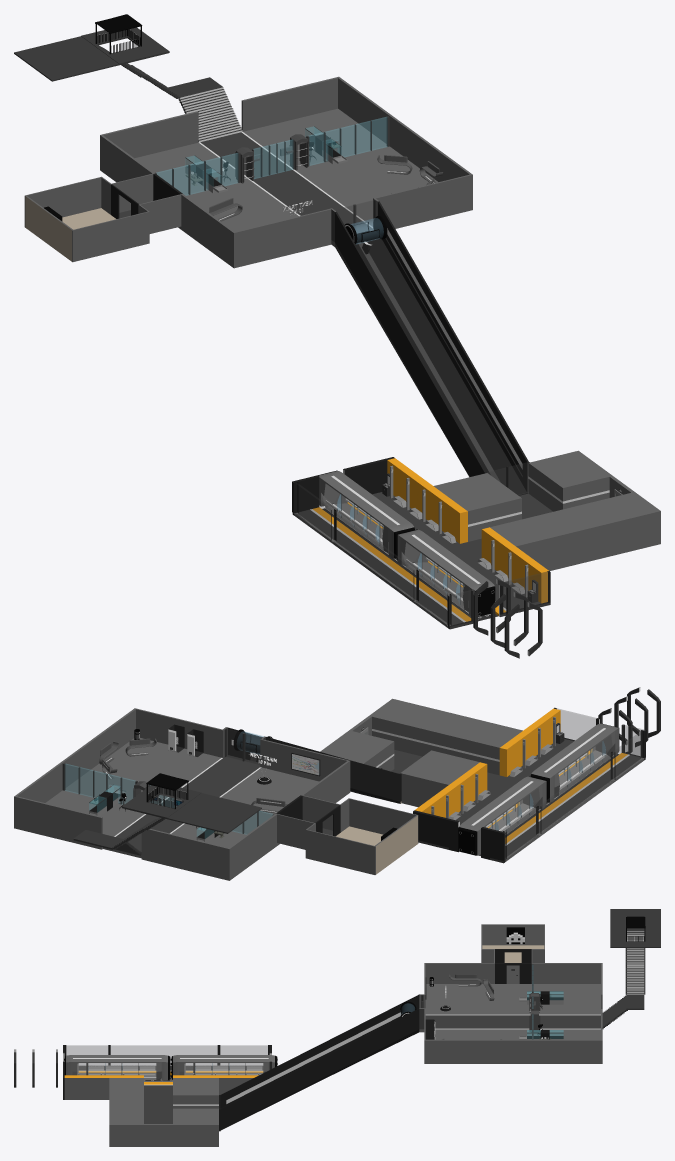
File: METRO_STATION.fbx
3 views of the same model, one above another, from view 1: azimuth 30°, elevation 25°; view 2: azimuth 150°, elevation 25°; view 3: azimuth 270°, elevation 25° (orthographic). The views are drawn at different scales.
Visible parts, largest first — view 1: Plane.004, Cube.033, Cube.032, Cube.020, Cube.039, Cube.043, Cube.040; view 2: Plane.004, Cube.033, Cube.032, Cube.020, Cube.039, Cube.041, Cylinder.008, Cube.035, Cylinder.006, Cube.047, Cube.036, Cube.043 (+2 smaller); view 3: Plane.004, Cube.033, Cube.032, Cube.020, Cube.044, Cube.041.
Part boxes in pixels (x1,y1,x2,y2): Plane.004: [24, 76, 660, 629]; Cube.033: [14, 27, 242, 142]; Cube.032: [397, 529, 495, 616]; Cube.020: [318, 470, 414, 558]; Cube.039: [306, 116, 389, 165]; Cube.043: [155, 152, 240, 195]; Cube.040: [252, 139, 294, 178]; Plane.004: [14, 698, 645, 880]; Cube.033: [73, 785, 261, 855]; Cube.032: [530, 723, 619, 802]; Cube.020: [458, 776, 546, 855]; Cube.039: [62, 763, 137, 804]; Cube.041: [89, 784, 127, 816]; Cylinder.008: [146, 773, 188, 809]; Cube.035: [291, 753, 320, 776]; Cylinder.006: [233, 729, 272, 754]; Cube.047: [187, 729, 203, 756]; Cube.036: [168, 724, 184, 752]; Cube.043: [232, 811, 274, 834]; Plane.004: [63, 924, 602, 1146]; Cube.033: [602, 909, 660, 1029]; Cube.032: [64, 1055, 170, 1080]; Cube.020: [171, 1055, 277, 1079]; Cube.044: [519, 991, 563, 1004]; Cube.041: [519, 1030, 563, 1039].
Bounding box in the file's own units: 37149 × 27493 × 87544.
Materials: 76 (9 with a texture image).
